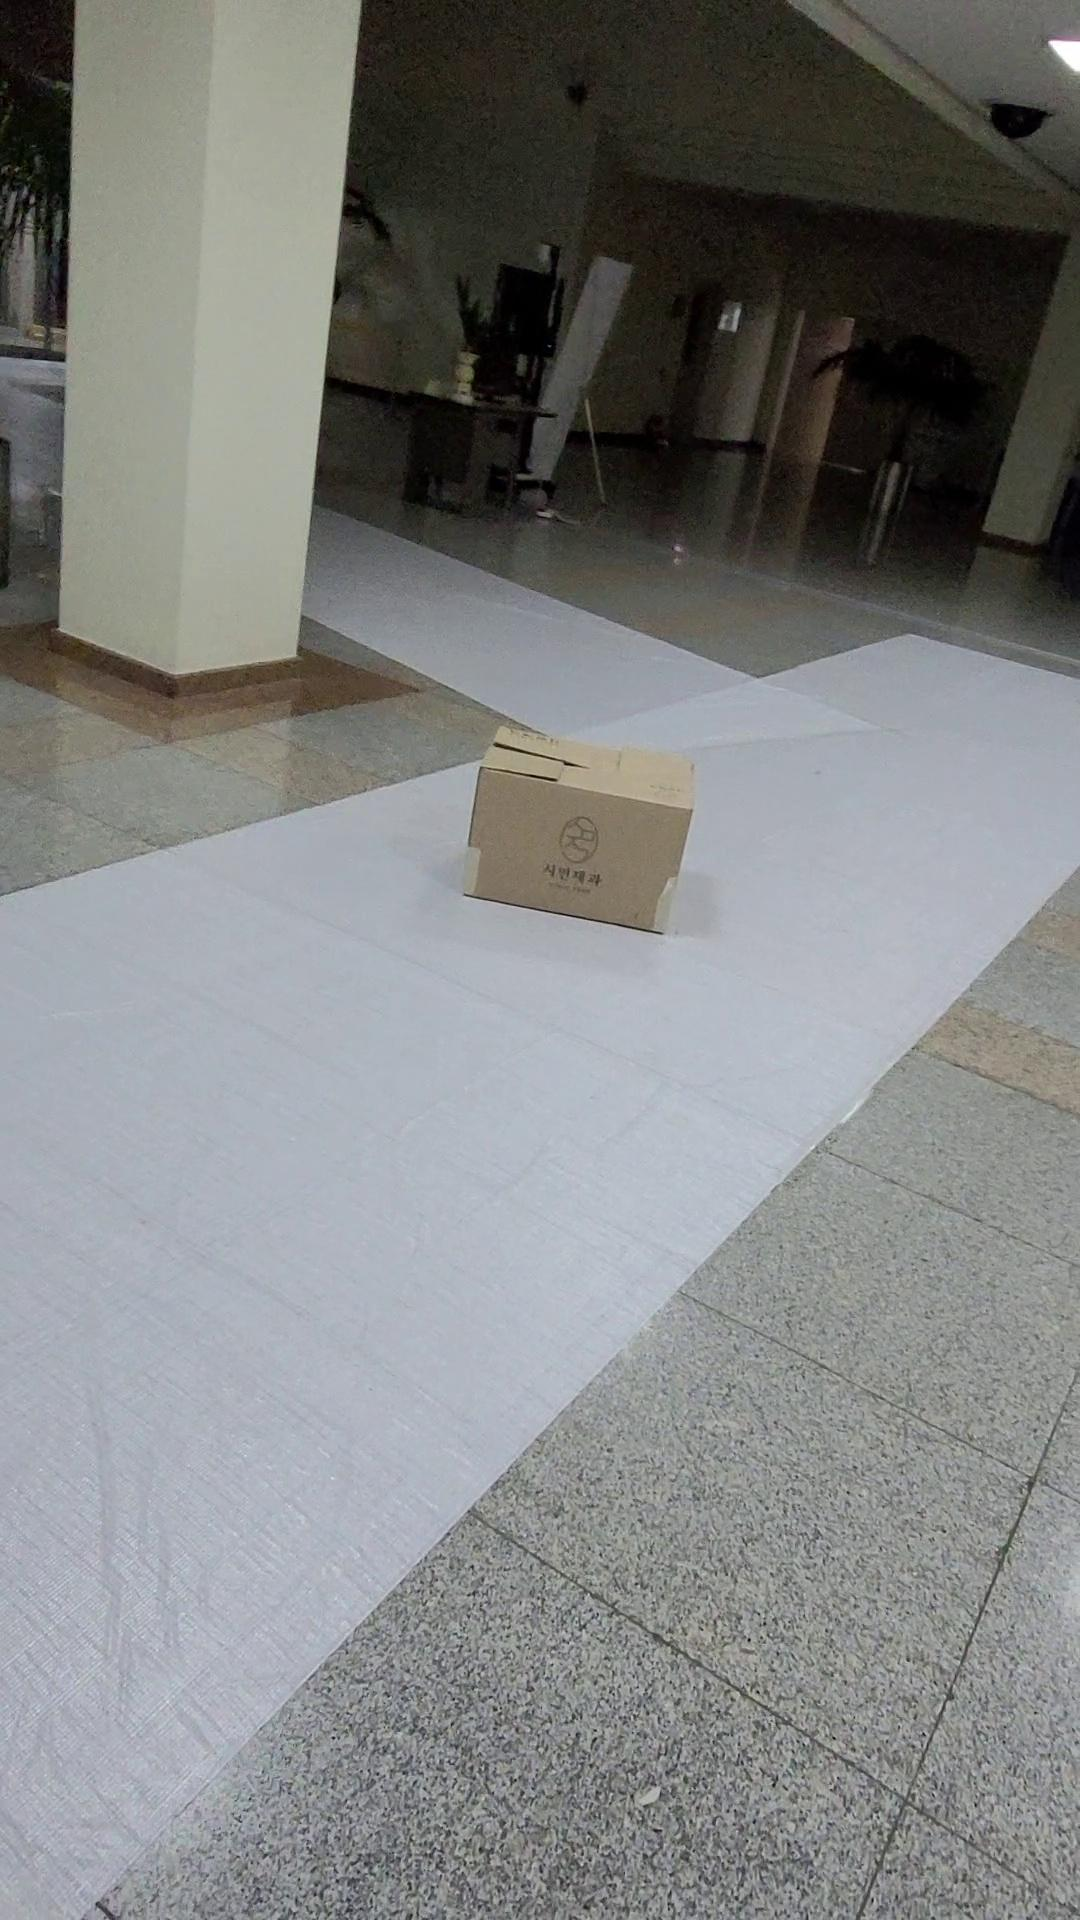Box: (438, 708, 717, 948)
